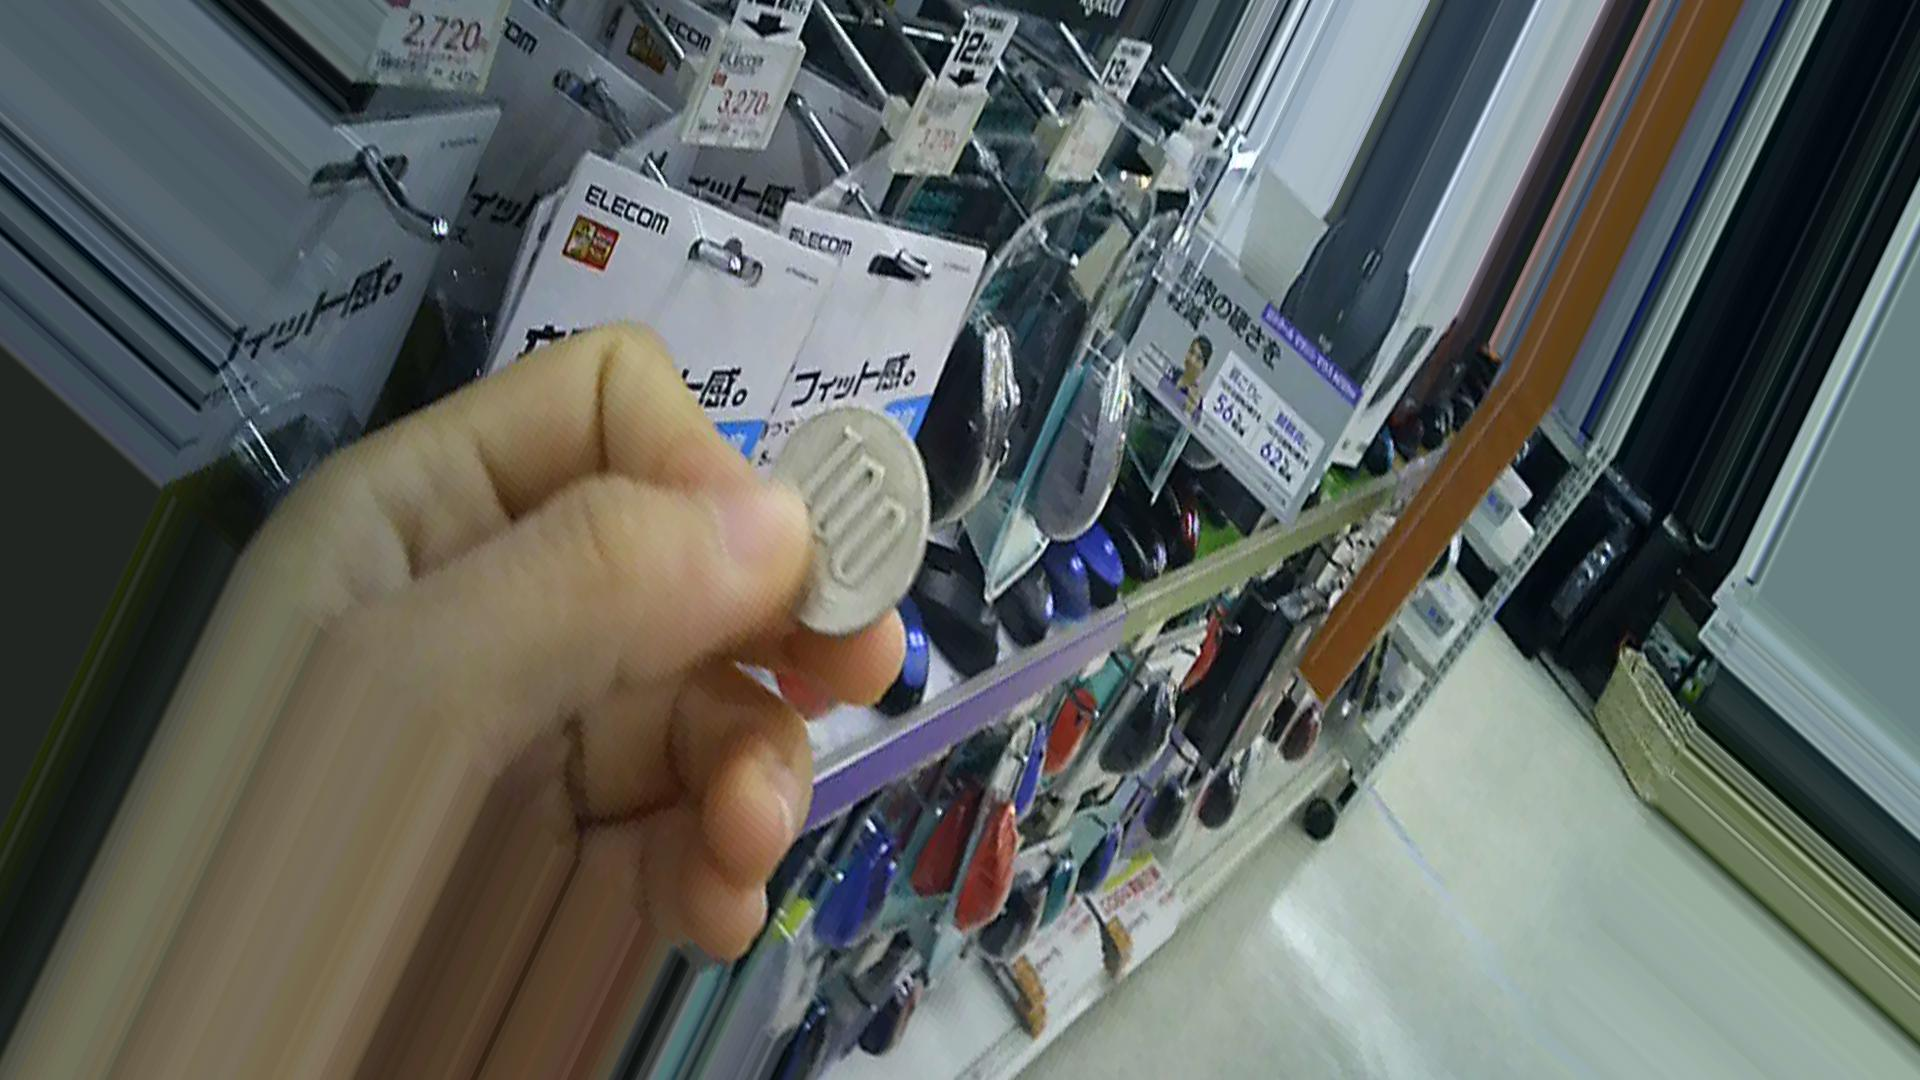100 Yen: (753, 404, 924, 637)
